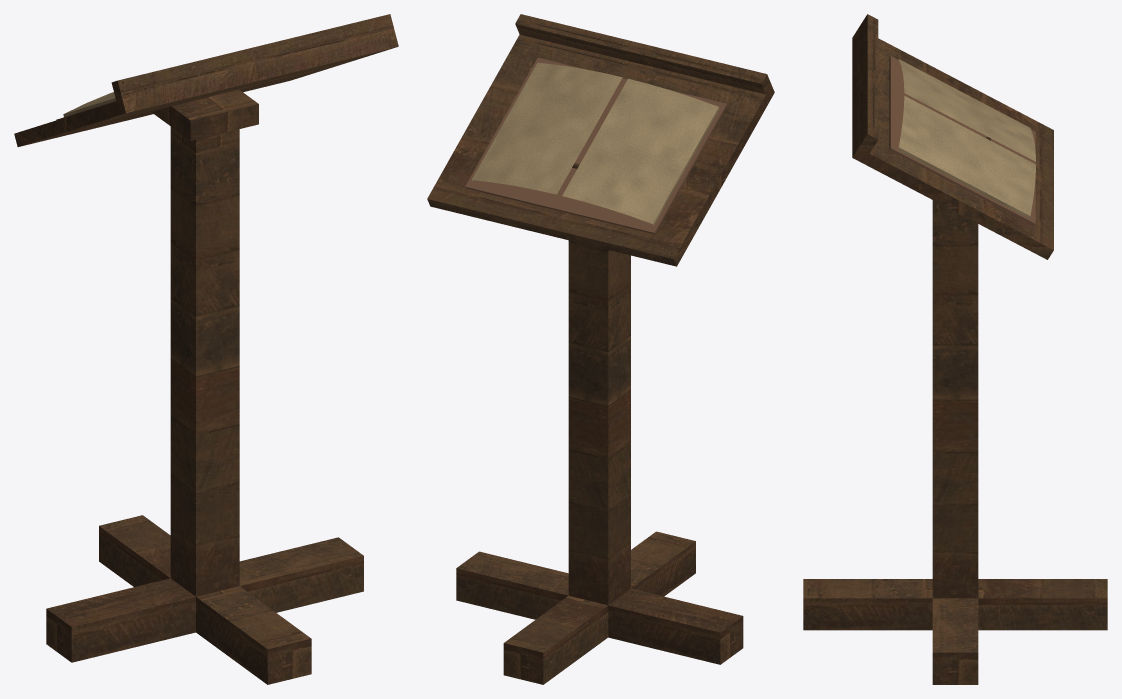
Rendered from lectern.glb.
The picture shows the model from 3 angles, left to right: view 1: azimuth 30°, elevation 25°; view 2: azimuth 150°, elevation 25°; view 3: azimuth 270°, elevation 25°; orthographic projection. The views are drawn at different scales.
Visible parts, largest first — view 1: lectern; view 2: lectern; view 3: lectern.
Boxes of the visible parts, x1,y1,x2,y2 form: lectern: (14,14,398,684); lectern: (427,14,774,684); lectern: (803,14,1107,684).
Size of the model in its own units: 0.6 by 1.19 by 0.6.
Materials: 3 (2 with a texture image).
